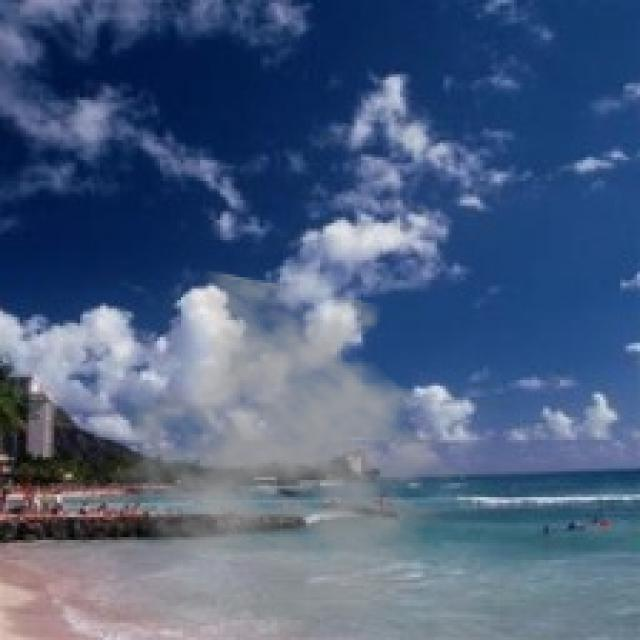Smoke: (106, 268, 480, 634)
